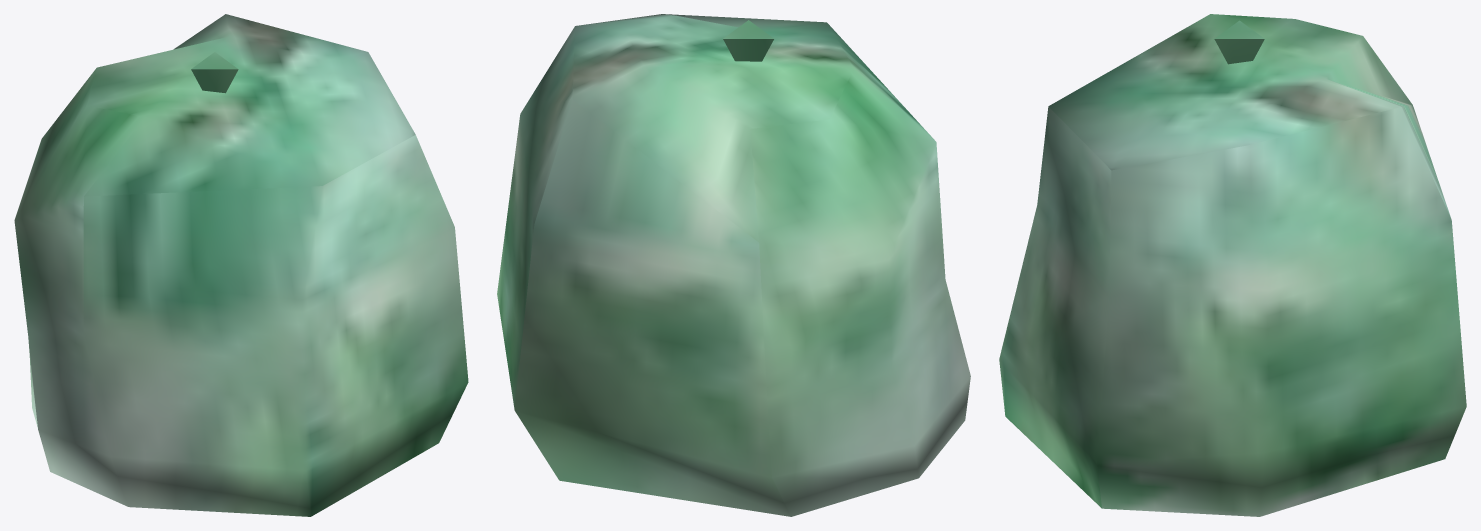
File: tras_bag_model.glb
The picture shows the model from 3 angles, left to right: view 1: azimuth 30°, elevation 25°; view 2: azimuth 150°, elevation 25°; view 3: azimuth 270°, elevation 25°; orthographic projection. The views are drawn at different scales.
Parts seen in each view (by area): view 1: Trash_003; view 2: Trash_003; view 3: Trash_003.
Boxes of the visible parts, x1,y1,x2,y2 form: Trash_003: [14, 14, 468, 516]; Trash_003: [497, 14, 970, 516]; Trash_003: [999, 14, 1466, 516].
Size of the model in its own units: 0.6797 by 0.6236 by 0.6707.
1 material, 1 textured.
